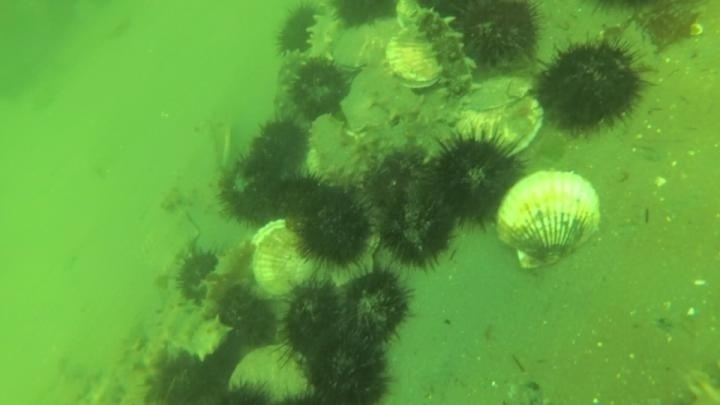echinus: (531, 31, 652, 136), (422, 127, 528, 232), (290, 182, 377, 276), (334, 263, 416, 349), (301, 331, 394, 404), (452, 1, 545, 73), (359, 144, 440, 226), (375, 194, 452, 274), (276, 277, 347, 362), (217, 151, 296, 225), (143, 347, 233, 405), (229, 293, 295, 360), (246, 114, 313, 179), (170, 244, 224, 306), (271, 2, 323, 59), (329, 1, 401, 31), (220, 377, 276, 404)
holothurian: (140, 281, 235, 366), (398, 1, 479, 97), (341, 67, 431, 137), (303, 112, 376, 192), (588, 2, 704, 51), (199, 238, 257, 317), (77, 340, 141, 405), (124, 335, 168, 405), (270, 51, 309, 120), (301, 6, 344, 63), (616, 20, 661, 70)
scallop: (500, 169, 606, 270), (450, 76, 546, 161), (247, 217, 320, 302), (306, 111, 379, 191), (223, 342, 318, 403), (382, 28, 445, 92)
